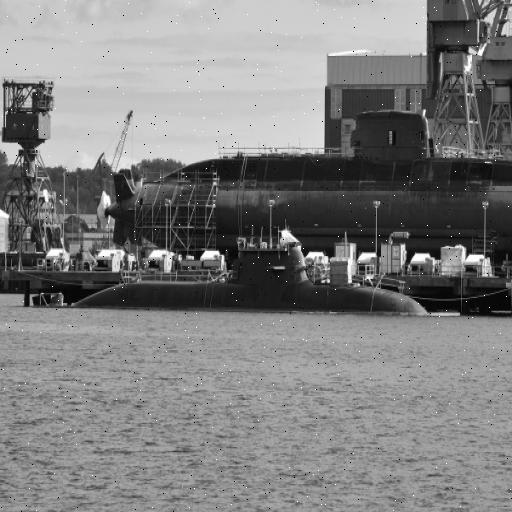submarine: (72, 239, 428, 316)
